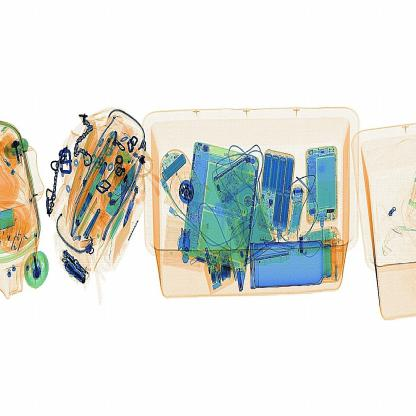pliers: (95, 146, 114, 210)
